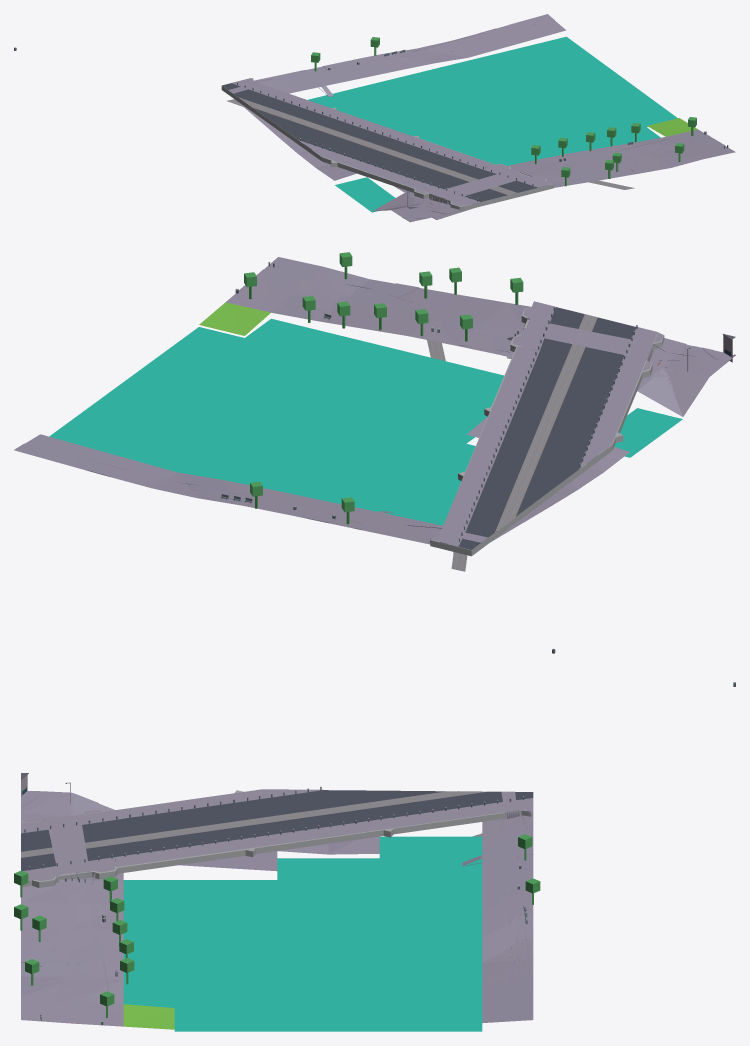
The picture shows the model from 3 angles, top to bottom: view 1: azimuth 30°, elevation 25°; view 2: azimuth 150°, elevation 25°; view 3: azimuth 270°, elevation 25°; orthographic projection. The views are drawn at different scales.
Parts seen in each view (by area): view 1: compiled-chunk; view 2: compiled-chunk; view 3: compiled-chunk.
Boxes of the visible parts, x1,y1,x2,y2 form: compiled-chunk: (14, 14, 735, 222); compiled-chunk: (14, 252, 735, 653); compiled-chunk: (14, 682, 735, 1031).
Bounding box in the file's own units: 169 × 18.21 × 169.
